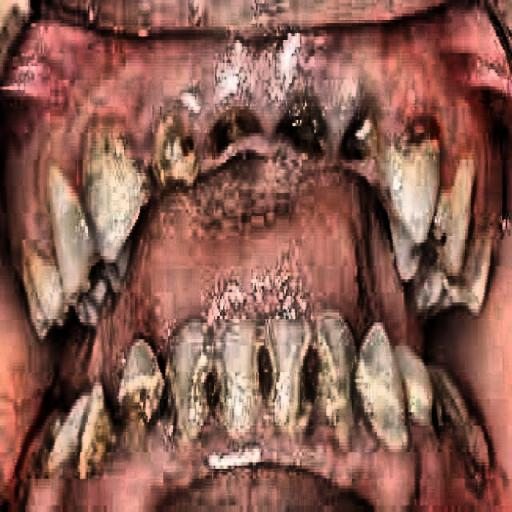Caries: (128, 77, 413, 218), (61, 347, 383, 441)
